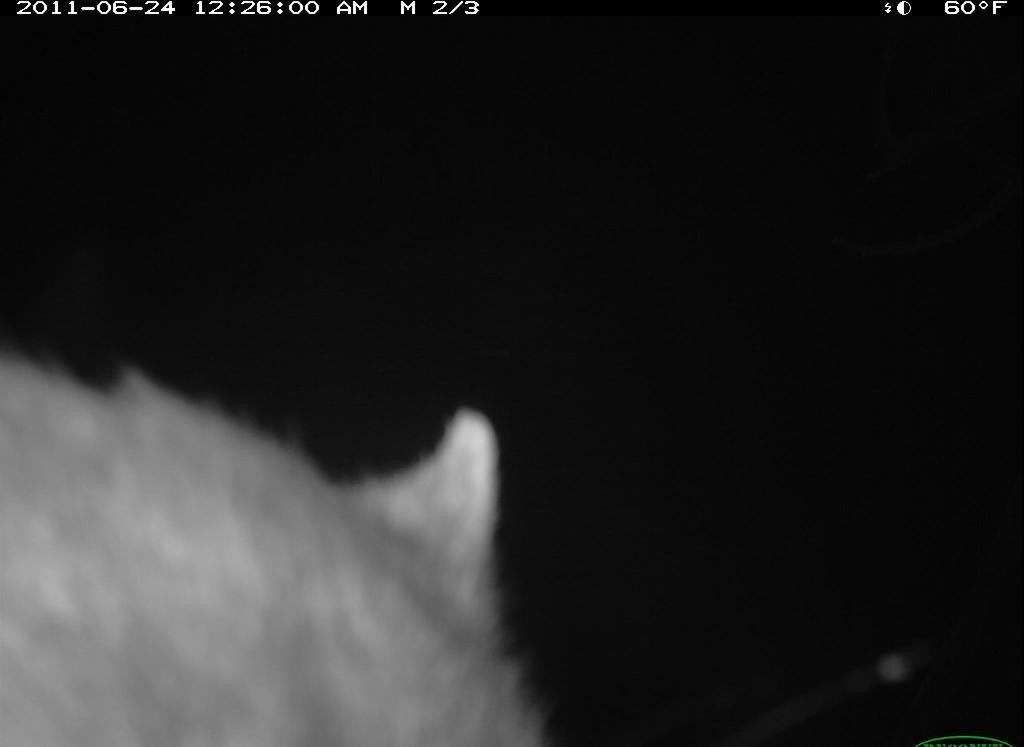raccoon: (2, 341, 555, 747)
